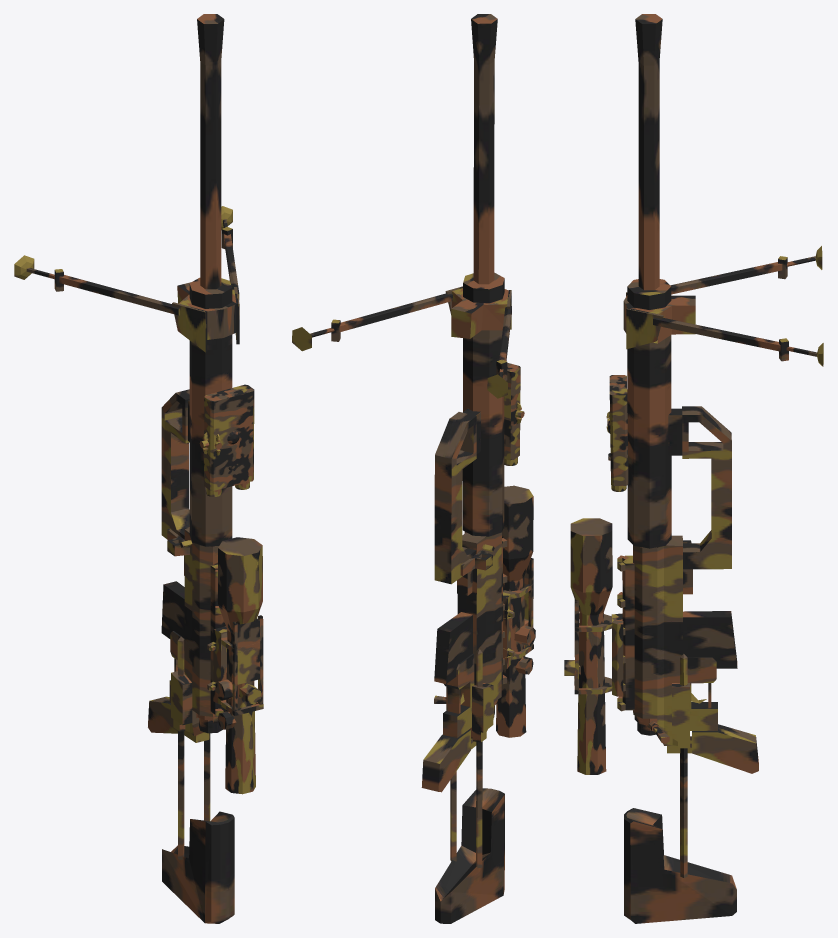
Rendered from intervention.obj.
The picture shows the model from 3 angles, left to right: view 1: azimuth 30°, elevation 25°; view 2: azimuth 150°, elevation 25°; view 3: azimuth 270°, elevation 25°; orthographic projection. The views are drawn at different scales.
Parts seen in each view (by area): view 1: mesh01; view 2: mesh01; view 3: mesh01.
Boxes of the visible parts, box(x1,y1,x2,y2) form: mesh01: box(14, 14, 263, 923); mesh01: box(292, 14, 535, 923); mesh01: box(564, 14, 823, 923).
Bounding box in the file's own units: 5.4 × 21.15 × 5.52.
